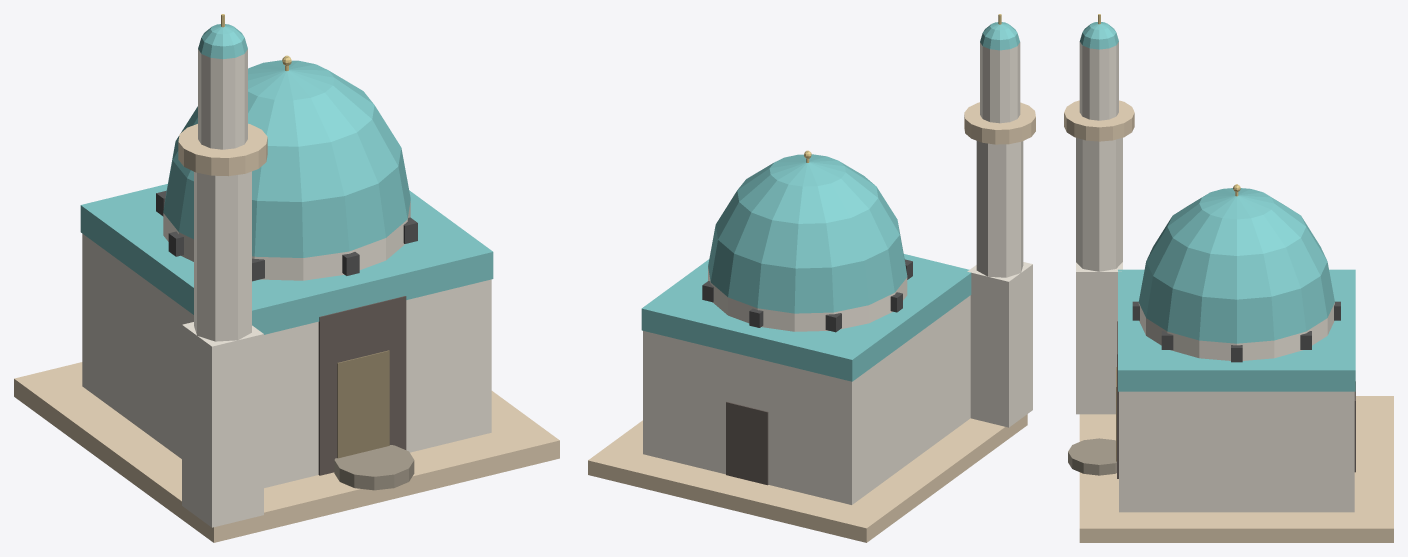
Rendered from Temple_MiddleEast.fbx.
3 renders of one model, left to right at view 1: azimuth 30°, elevation 25°; view 2: azimuth 150°, elevation 25°; view 3: azimuth 270°, elevation 25°, orthographic. The views are drawn at different scales.
Visible parts, largest first — view 1: Temple_MiddleEast_Mesh; view 2: Temple_MiddleEast_Mesh; view 3: Temple_MiddleEast_Mesh.
Part boxes in pixels (box(x1,y1,x2,y2)): Temple_MiddleEast_Mesh: box(14, 14, 559, 542); Temple_MiddleEast_Mesh: box(588, 14, 1035, 542); Temple_MiddleEast_Mesh: box(1064, 14, 1393, 542).
Bounding box in the file's own units: 8.4 × 11.35 × 8.4.
